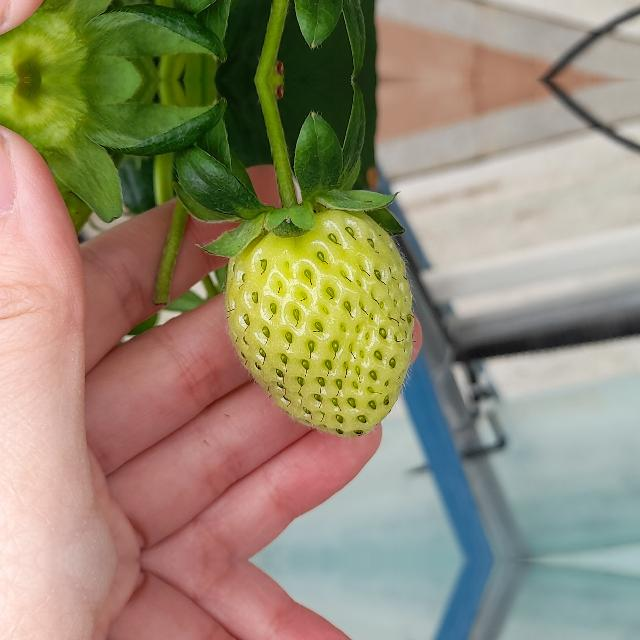Health_25: (226, 209, 414, 437)
